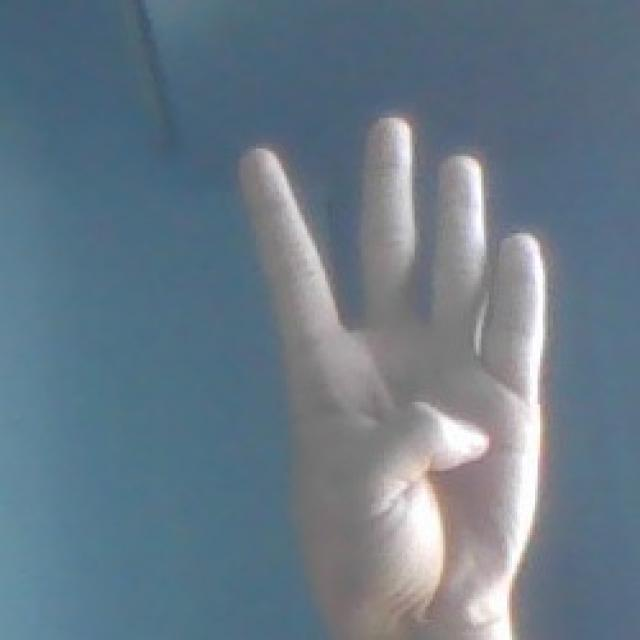Numeric-4: (238, 111, 552, 619)
